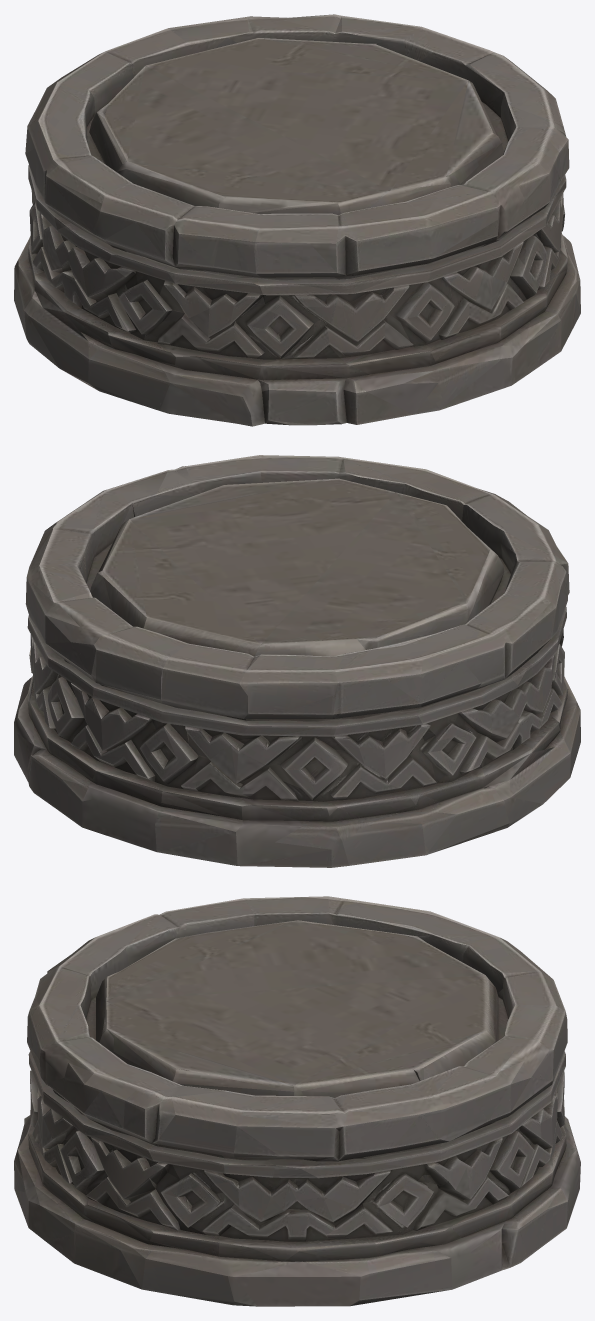
The model's file is pedestal.glb.
3 views of the same model, one above another, from view 1: azimuth 30°, elevation 25°; view 2: azimuth 150°, elevation 25°; view 3: azimuth 270°, elevation 25° (orthographic).
Bounding box in the file's own units: 1.87 × 0.6913 × 1.9.
Materials: 1 (1 with a texture image).
